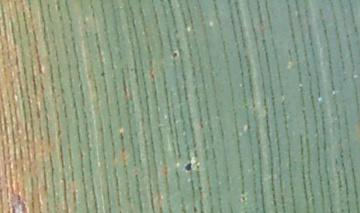tarspot: (183, 161, 193, 173), (170, 51, 178, 61), (99, 68, 107, 77), (118, 130, 124, 140)
